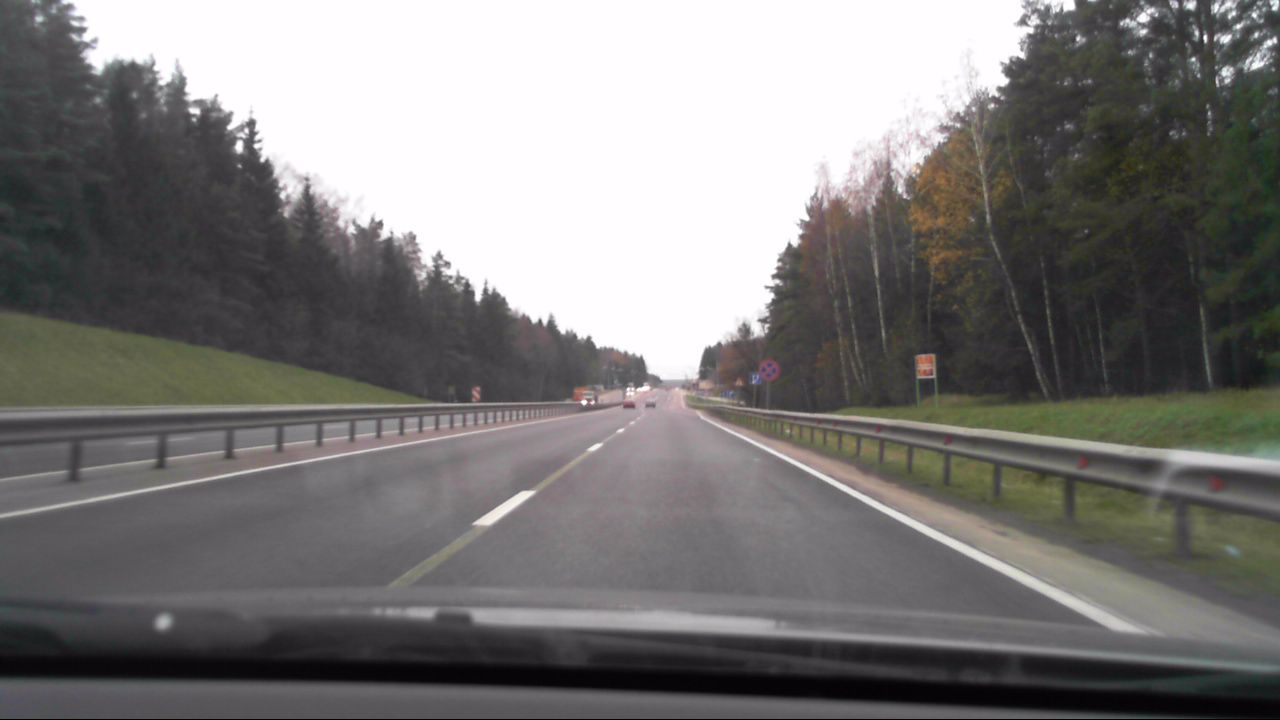No Parking: (758, 358, 779, 379)
